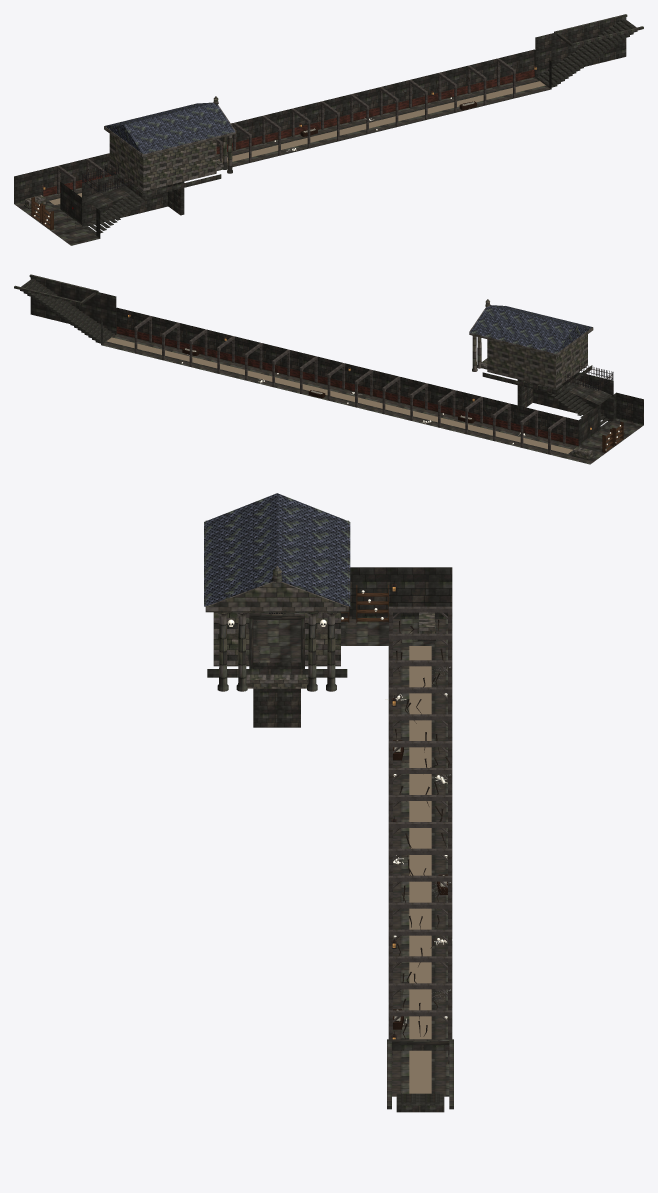
Rendered from crypt.glb.
3 views of the same model, one above another, from view 1: azimuth 30°, elevation 25°; view 2: azimuth 150°, elevation 25°; view 3: azimuth 270°, elevation 25° (orthographic). The views are drawn at different scales.
Parts seen in each view (by area): view 1: crypt; view 2: crypt; view 3: crypt.
Boxes of the visible parts, left/top/right/bottom form: crypt: left=14, top=14, right=643, bottom=245; crypt: left=14, top=274, right=643, bottom=464; crypt: left=204, top=493, right=453, bottom=1112.
Size of the model in its own units: 83.55 by 13.7 by 15.7.
25 materials, 20 textured.
